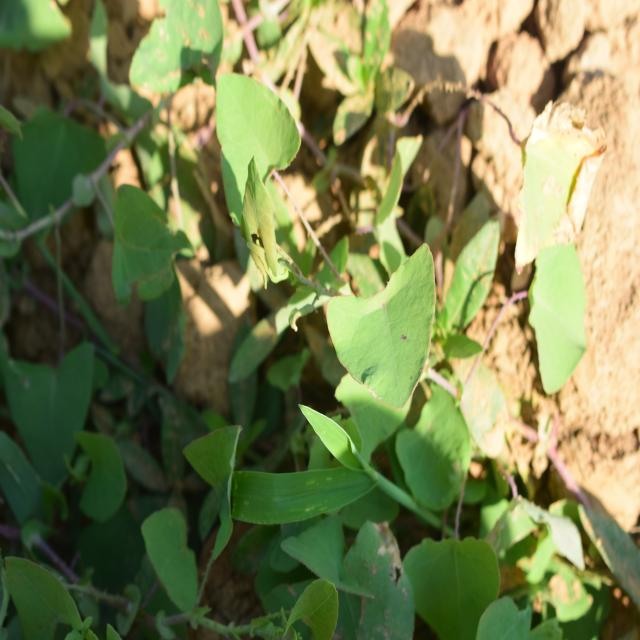Asiatic_Smartweed: (288, 227, 464, 427), (193, 72, 323, 289)
